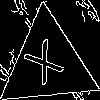X: (22, 38, 72, 95)
